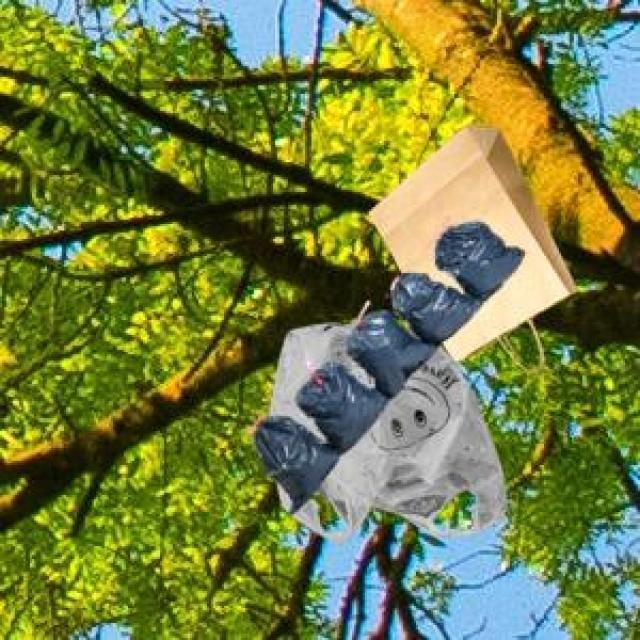miscellaneous trash: (250, 218, 521, 510)
paper: (365, 122, 572, 358)
